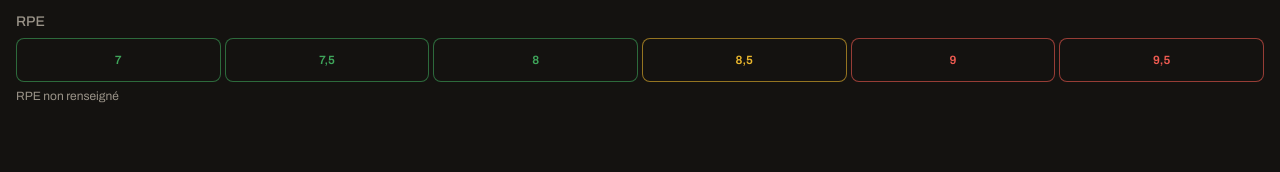
Test case: RpeChips › désélectionne le RPE choisi
Click the button named "RPE 9 — échec": (953, 60) [851,38,1055,82]
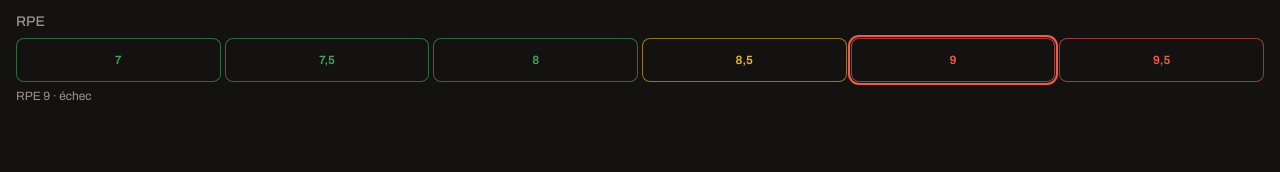
Click the button named "RPE 9 — échec": (953, 60) [851,38,1055,82]
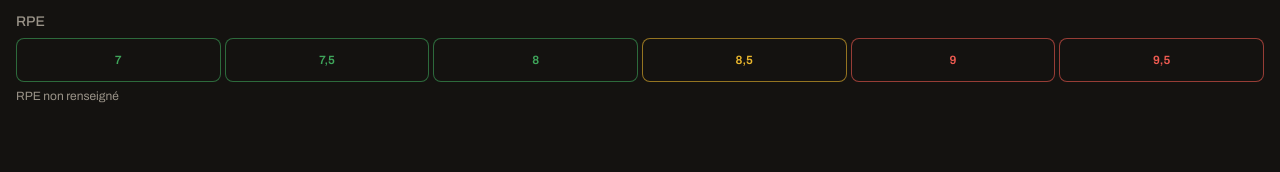
Expected: the text "RPE non renseigné" is shown, [16,89,119,103]
